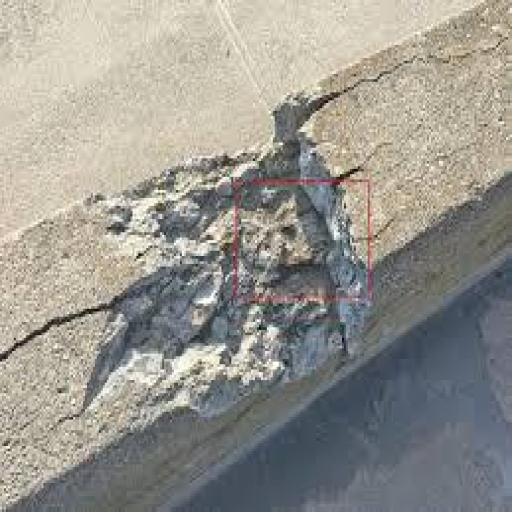spalling: (95, 131, 369, 415)
